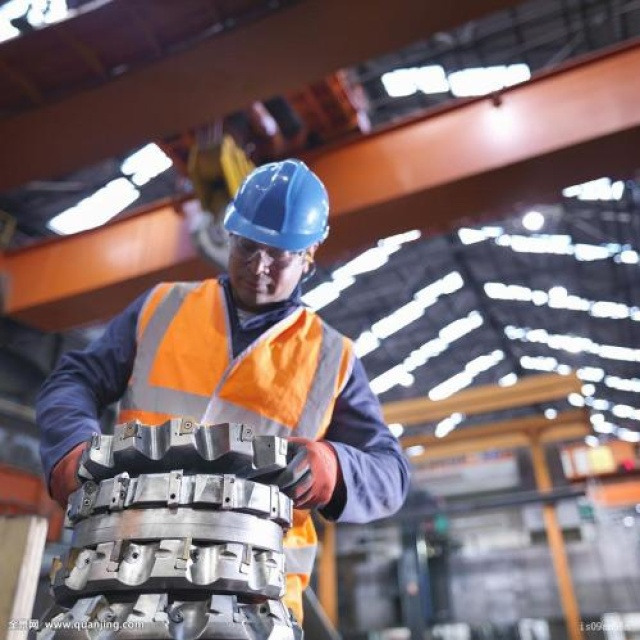Helmet: (218, 147, 336, 321)
Reflective vest: (107, 280, 358, 620)
